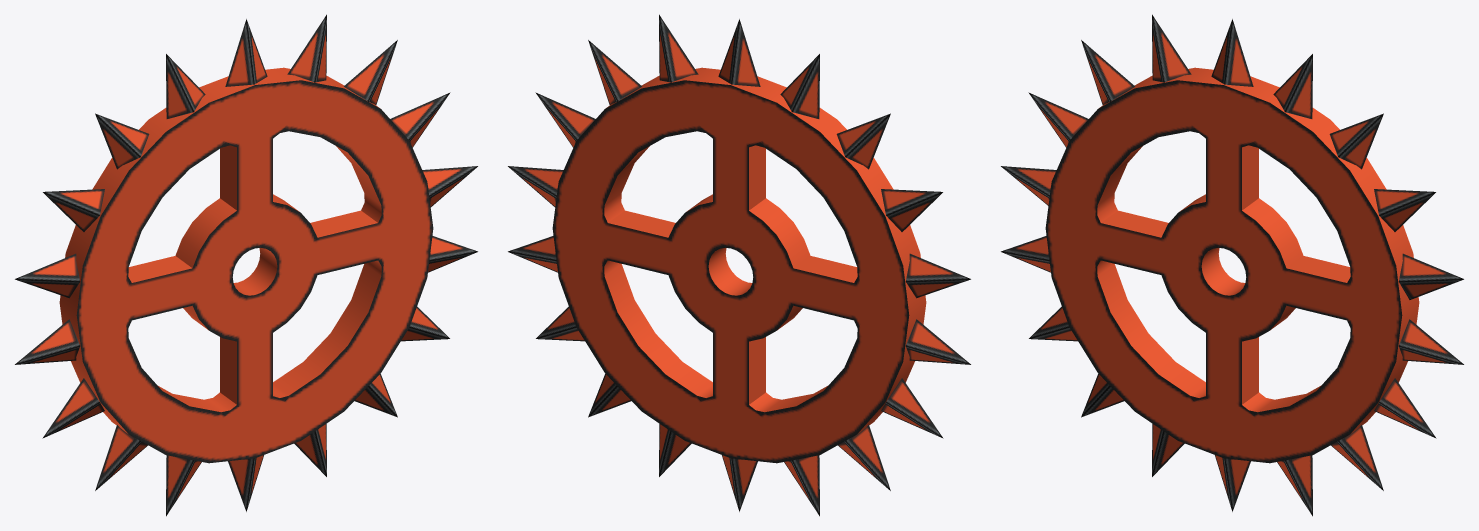
The model's file is Gear02.fbx.
3 renders of one model, left to right at view 1: azimuth 30°, elevation 25°; view 2: azimuth 150°, elevation 25°; view 3: azimuth 330°, elevation 25°, orthographic.
Visible parts, largest first — view 1: chilun:chilun:chilun:pCylinder24polySurface325; view 2: chilun:chilun:chilun:pCylinder24polySurface325; view 3: chilun:chilun:chilun:pCylinder24polySurface325.
Boxes of the visible parts, x1,y1,x2,y2 form: chilun:chilun:chilun:pCylinder24polySurface325: (15,14,477,516); chilun:chilun:chilun:pCylinder24polySurface325: (508,14,970,516); chilun:chilun:chilun:pCylinder24polySurface325: (1001,14,1463,516).
Size of the model in its own units: 0.3031 by 0.3078 by 0.0194.
1 material, 1 textured.
